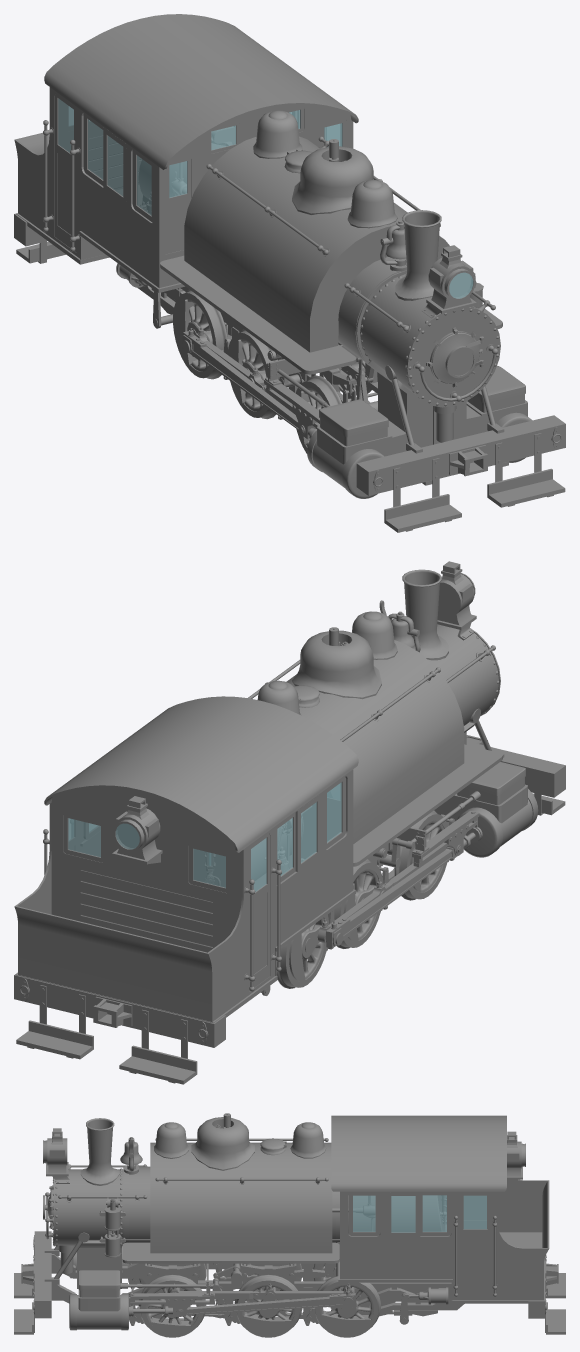
Rendered from Leetonia for re-rigging.fbx.
3 renders of one model, top to bottom at view 1: azimuth 30°, elevation 25°; view 2: azimuth 150°, elevation 25°; view 3: azimuth 270°, elevation 25°, orthographic. The views are drawn at different scales.
Visible parts, largest first — view 1: Body, DoorRight, Driver3, HeadLamp, DoorFrontRight, Driver2, CrankRight, WindowRight, Driver1, RodRight, BellTop; view 2: Body, DoorRight, TailLamp, Driver3, CrankRight, HeadLamp, Driver2, Driver1, WindowRight, RodRight, BellTop; view 3: Body, DoorLeft, Driver3, Driver2, Driver1, CrankLeft, WindowLeft, RodLeft, HeadLamp, DoorRight, TailLamp, CrossheadLeft (+2 smaller).
Boxes of the visible parts, box(x1,y1,x2,y2) form: Body: box(14, 14, 565, 532); DoorRight: box(55, 93, 76, 251); Driver3: box(173, 289, 227, 379); HeadLamp: box(426, 245, 476, 313); DoorFrontRight: box(165, 156, 191, 253); Driver2: box(227, 329, 371, 419); CrankRight: box(182, 328, 301, 434); WindowRight: box(83, 113, 103, 185); Driver1: box(295, 375, 377, 453); RodRight: box(195, 327, 295, 414); BellTop: box(380, 209, 420, 259); Body: box(14, 569, 565, 1084); DoorRight: box(248, 832, 269, 991); TailLamp: box(112, 796, 162, 864); Driver3: box(276, 915, 343, 988); CrankRight: box(325, 847, 456, 948); HeadLamp: box(437, 561, 476, 629); Driver2: box(334, 859, 385, 948); Driver1: box(387, 810, 447, 900); WindowRight: box(275, 812, 295, 885); RodRight: box(317, 847, 446, 943); BellTop: box(379, 600, 419, 647); Body: box(14, 1113, 565, 1334); DoorLeft: box(460, 1192, 490, 1297); Driver3: box(313, 1263, 380, 1337); Driver2: box(234, 1263, 302, 1337); Driver1: box(138, 1263, 206, 1337); CrankLeft: box(183, 1289, 356, 1316); WindowLeft: box(420, 1192, 451, 1235); RodLeft: box(168, 1283, 354, 1301); HeadLamp: box(43, 1128, 68, 1176); DoorRight: box(463, 1195, 487, 1228); TailLamp: box(507, 1131, 525, 1179); CrossheadLeft: box(133, 1299, 194, 1316).
Size of the model in its own units: 6.09 by 7.84 by 19.04.
